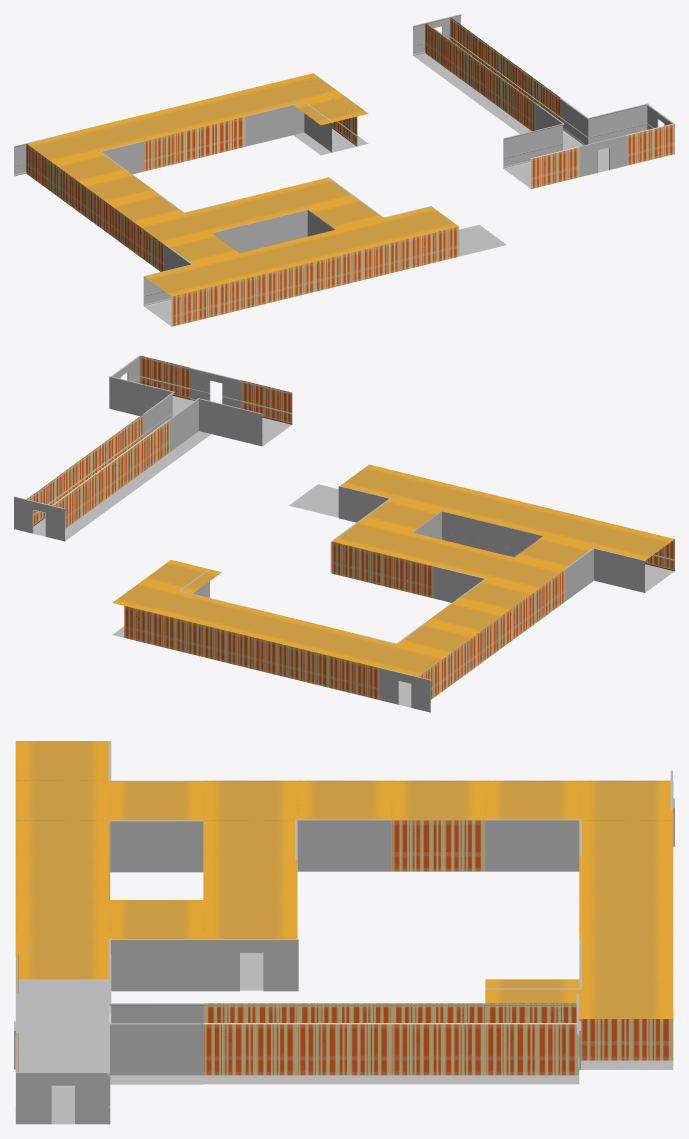
Rendered from night 2 hall.fbx.
The picture shows the model from 3 angles, top to bottom: view 1: azimuth 30°, elevation 25°; view 2: azimuth 150°, elevation 25°; view 3: azimuth 270°, elevation 25°; orthographic projection. The views are drawn at different scales.
Visible parts, largest first — view 1: corner18, corner24, corner25, wall9__16_26, corner_u1, wall9__16_39, wall9__16_40, wall9__16_23, wall9__16_12, wall9__16_24, wall9__16_13, wall9__16_28 (+45 smaller); view 2: corner25, corner23, corner24, corner_u1, wall9__16_8, wall9__16_7, wall9__16_11, wall9__16_27, wall9__16_9, wall9__16_10, wall9__16_21, wall9__16_39 (+44 smaller); view 3: corner24, corner22, corner21, corner20, wall9__16_20, wall9__16_33, wall9__16_32, corner_u, wall9__16_34, wall9__16_19, wall_w_Door30__4_1, wall_w_Door30__4_3 (+40 smaller).
Boxes of the visible parts, x1,y1,x2,y2 form: corner18: (245, 101, 332, 152); corner24: (559, 98, 648, 145); corner25: (503, 103, 564, 168); wall9__16_26: (185, 117, 245, 161); corner_u1: (260, 209, 335, 247); wall9__16_39: (530, 147, 578, 188); wall9__16_40: (626, 123, 674, 165); wall9__16_23: (219, 273, 267, 314); wall9__16_12: (315, 250, 363, 291); wall9__16_24: (171, 285, 219, 326); wall9__16_13: (267, 261, 315, 303); wall9__16_28: (363, 238, 411, 279); corner25: (169, 398, 262, 451); corner23: (564, 547, 645, 601); corner24: (109, 376, 174, 437); corner_u1: (412, 511, 492, 551); wall9__16_8: (382, 554, 433, 598); wall9__16_7: (328, 656, 379, 699); wall9__16_11: (124, 606, 175, 650); wall9__16_27: (278, 643, 328, 687); wall9__16_9: (227, 631, 277, 675); wall9__16_10: (176, 618, 226, 662); wall9__16_21: (332, 542, 382, 585); wall9__16_39: (241, 380, 292, 424); corner24: (107, 1023, 203, 1124); corner22: (295, 819, 391, 871); corner21: (485, 819, 581, 871); corner20: (108, 939, 204, 1012); wall9__16_20: (203, 1023, 297, 1075); wall9__16_33: (391, 1023, 485, 1075); wall9__16_32: (297, 1023, 391, 1075); corner_u: (109, 820, 203, 872); wall9__16_34: (485, 1023, 579, 1075); wall9__16_19: (391, 820, 485, 871); wall_w_Door30__4_1: (204, 939, 298, 991); wall_w_Door30__4_3: (16, 1072, 110, 1124).
Bounding box in the file's own units: 105 × 16.04 × 70.38.
